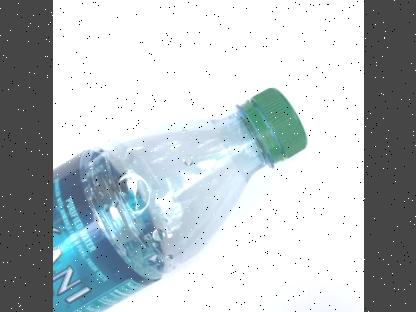Plastic Bottle: (52, 85, 316, 312)
